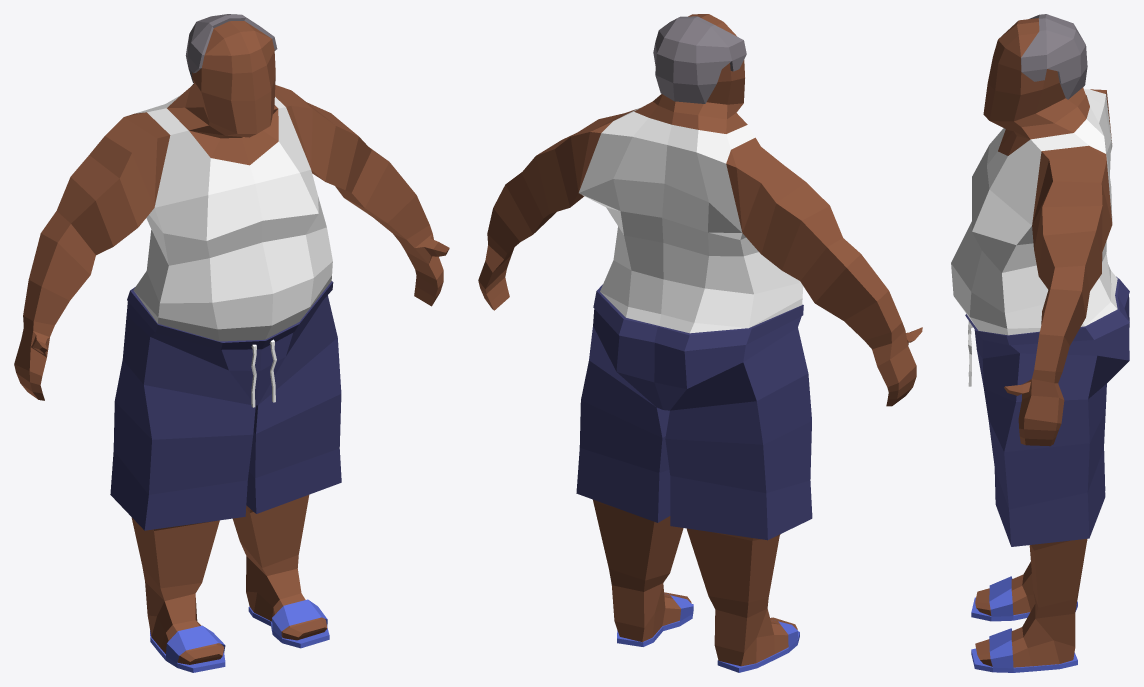
The model's file is low_poly_male_03_a.glb.
3 views of the same model, side by side, from view 1: azimuth 30°, elevation 25°; view 2: azimuth 150°, elevation 25°; view 3: azimuth 270°, elevation 25° (orthographic). The views are drawn at different scales.
Visible parts, largest first — view 1: male_03_a; view 2: male_03_a; view 3: male_03_a.
Boxes of the visible parts, box(x1,y1,x2,y2) form: male_03_a: box(14, 14, 449, 672); male_03_a: box(478, 14, 922, 672); male_03_a: box(951, 14, 1129, 672).
Bounding box in the file's own units: 1.31 × 1.87 × 0.49.
1 material, 1 textured.
